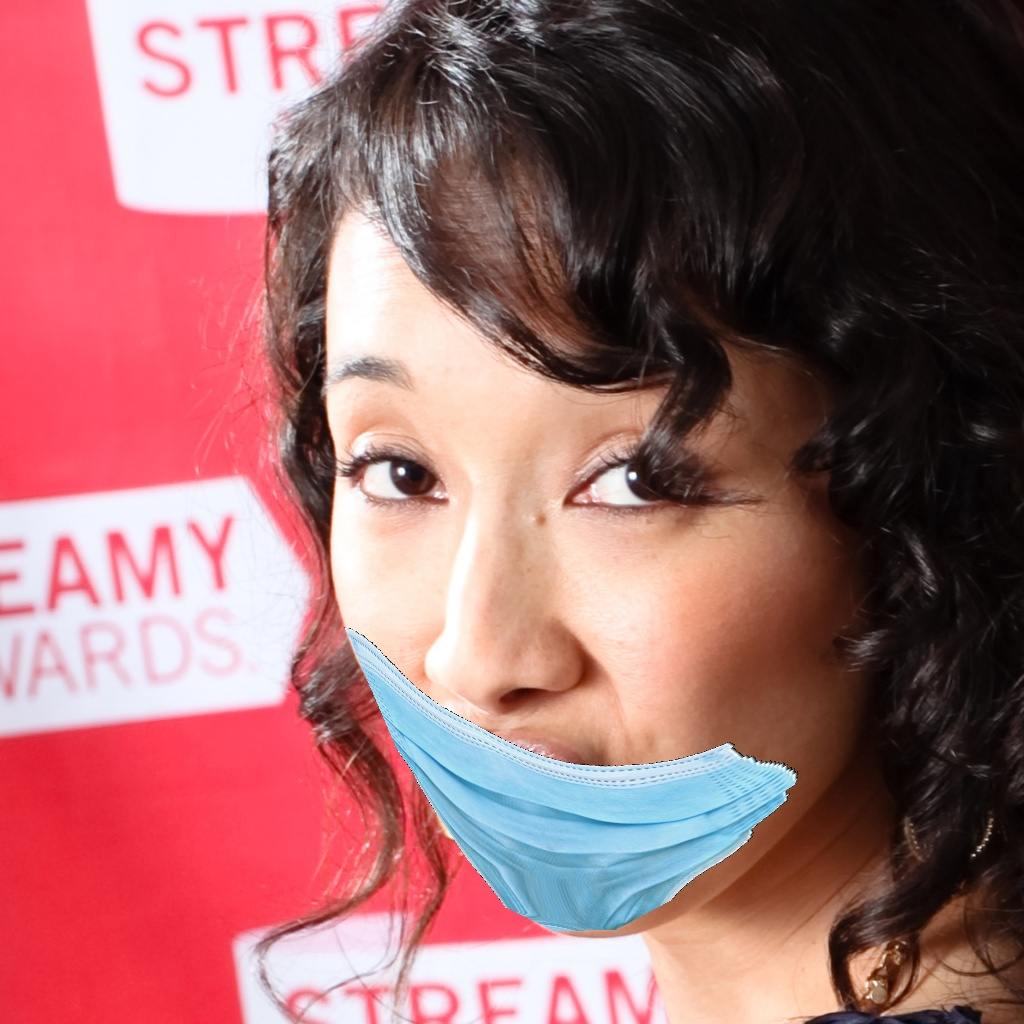mask_weared_incorrect: (316, 342, 834, 944)
